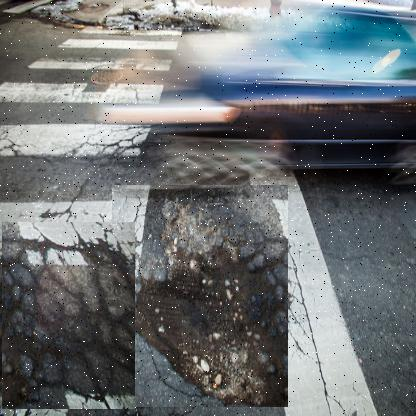crack: (2, 222, 136, 410)
pothole: (112, 185, 289, 408)
